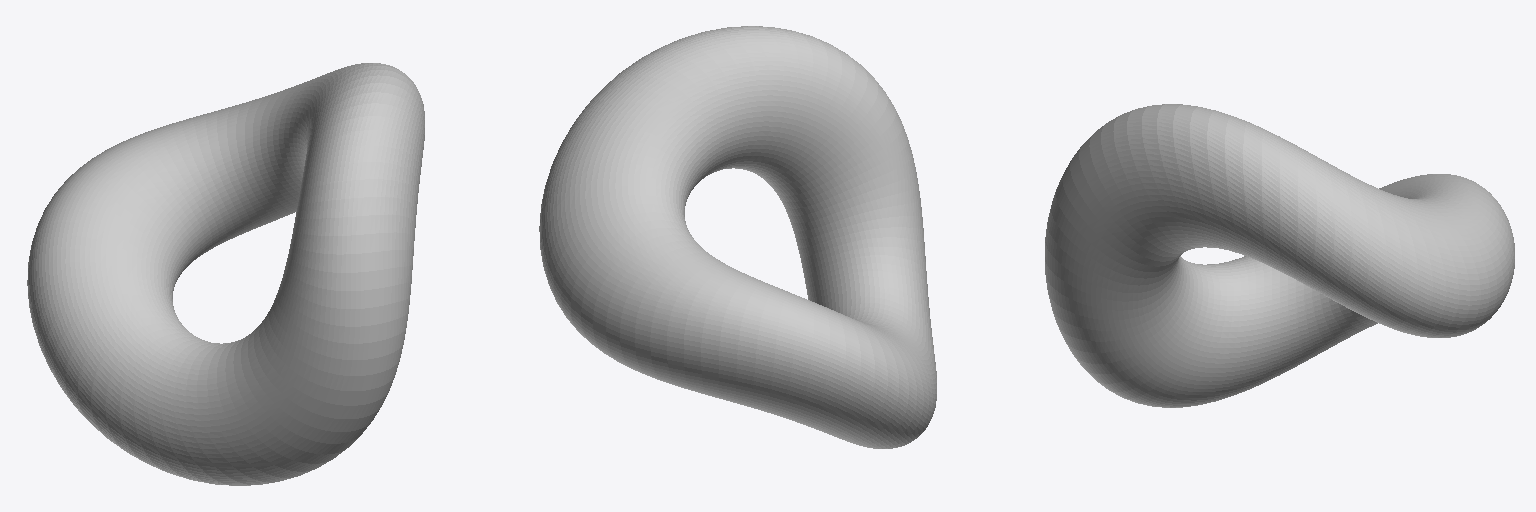
File: Torus-twist.obj
3 renders of one model, left to right at view 1: azimuth 30°, elevation 25°; view 2: azimuth 150°, elevation 25°; view 3: azimuth 270°, elevation 25°, orthographic.
Parts seen in each view (by area): view 1: 000_Torus; view 2: 000_Torus; view 3: 000_Torus.
Part boxes in pixels (bbox=[...]): 000_Torus: bbox=[27, 63, 424, 485]; 000_Torus: bbox=[539, 26, 936, 448]; 000_Torus: bbox=[1045, 104, 1514, 407].
Size of the model in its own units: 241 by 234 by 280.